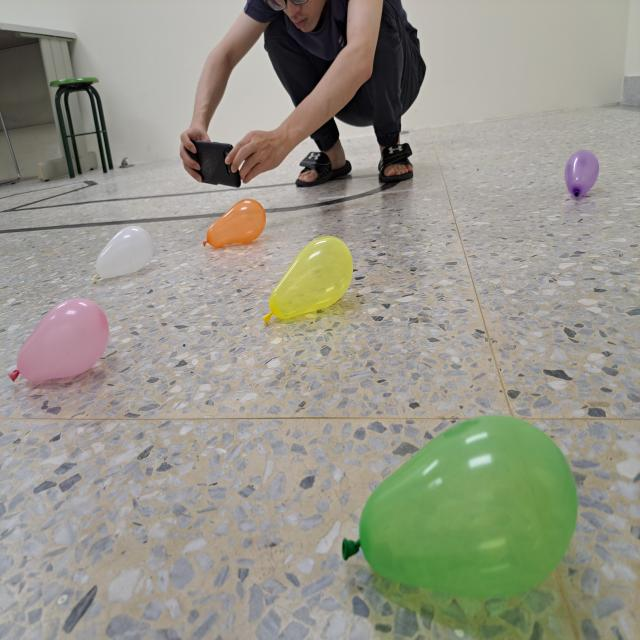other: (341, 413, 577, 598), (9, 299, 109, 386), (264, 237, 352, 328), (92, 226, 153, 285), (202, 197, 267, 249), (562, 150, 600, 203)
